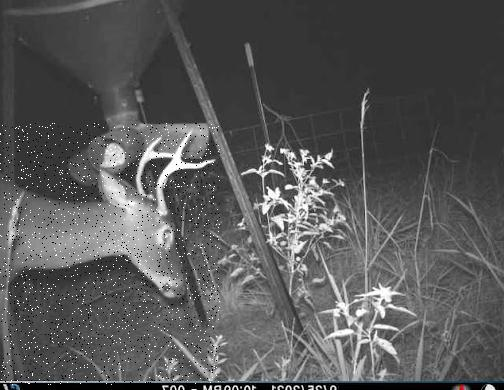Deer: (0, 123, 220, 385)
